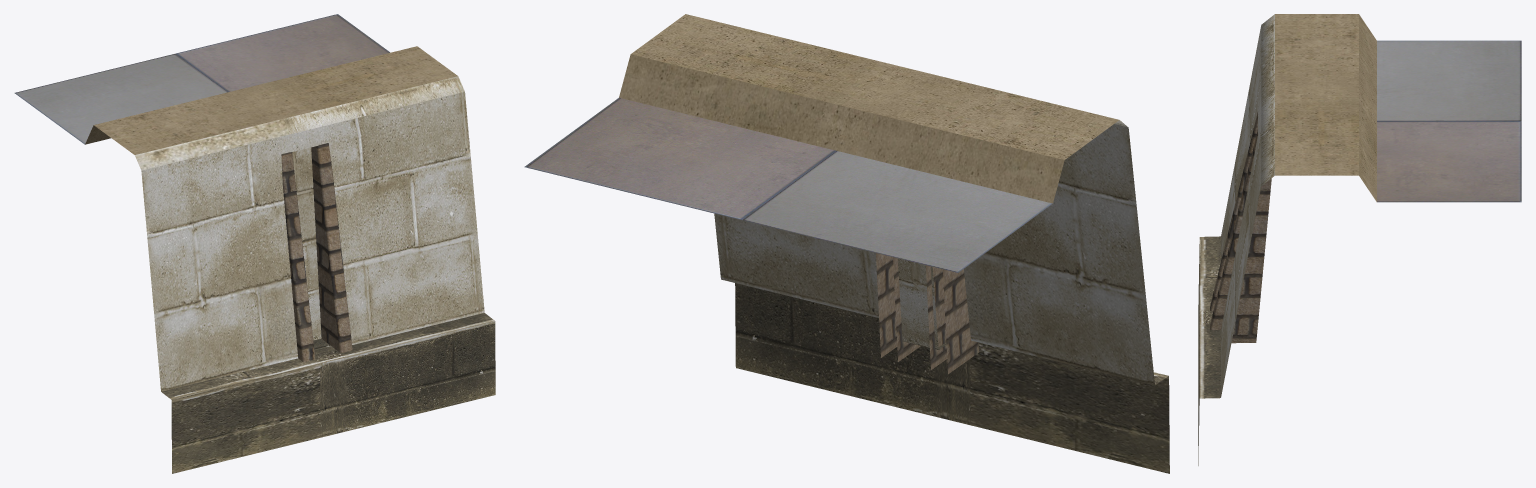
The model's file is castle-wall-half-w-deco-2.fbx.
3 renders of one model, left to right at view 1: azimuth 30°, elevation 25°; view 2: azimuth 150°, elevation 25°; view 3: azimuth 270°, elevation 25°, orthographic. The views are drawn at different scales.
Parts seen in each view (by area): view 1: castle-wall-half-w-deco-2; view 2: castle-wall-half-w-deco-2; view 3: castle-wall-half-w-deco-2.
Boxes of the visible parts, x1,y1,x2,y2 form: castle-wall-half-w-deco-2: (14,14,495,473); castle-wall-half-w-deco-2: (524,14,1169,473); castle-wall-half-w-deco-2: (1198,14,1521,465).
Bounding box in the file's own units: 200 × 172 × 169.
